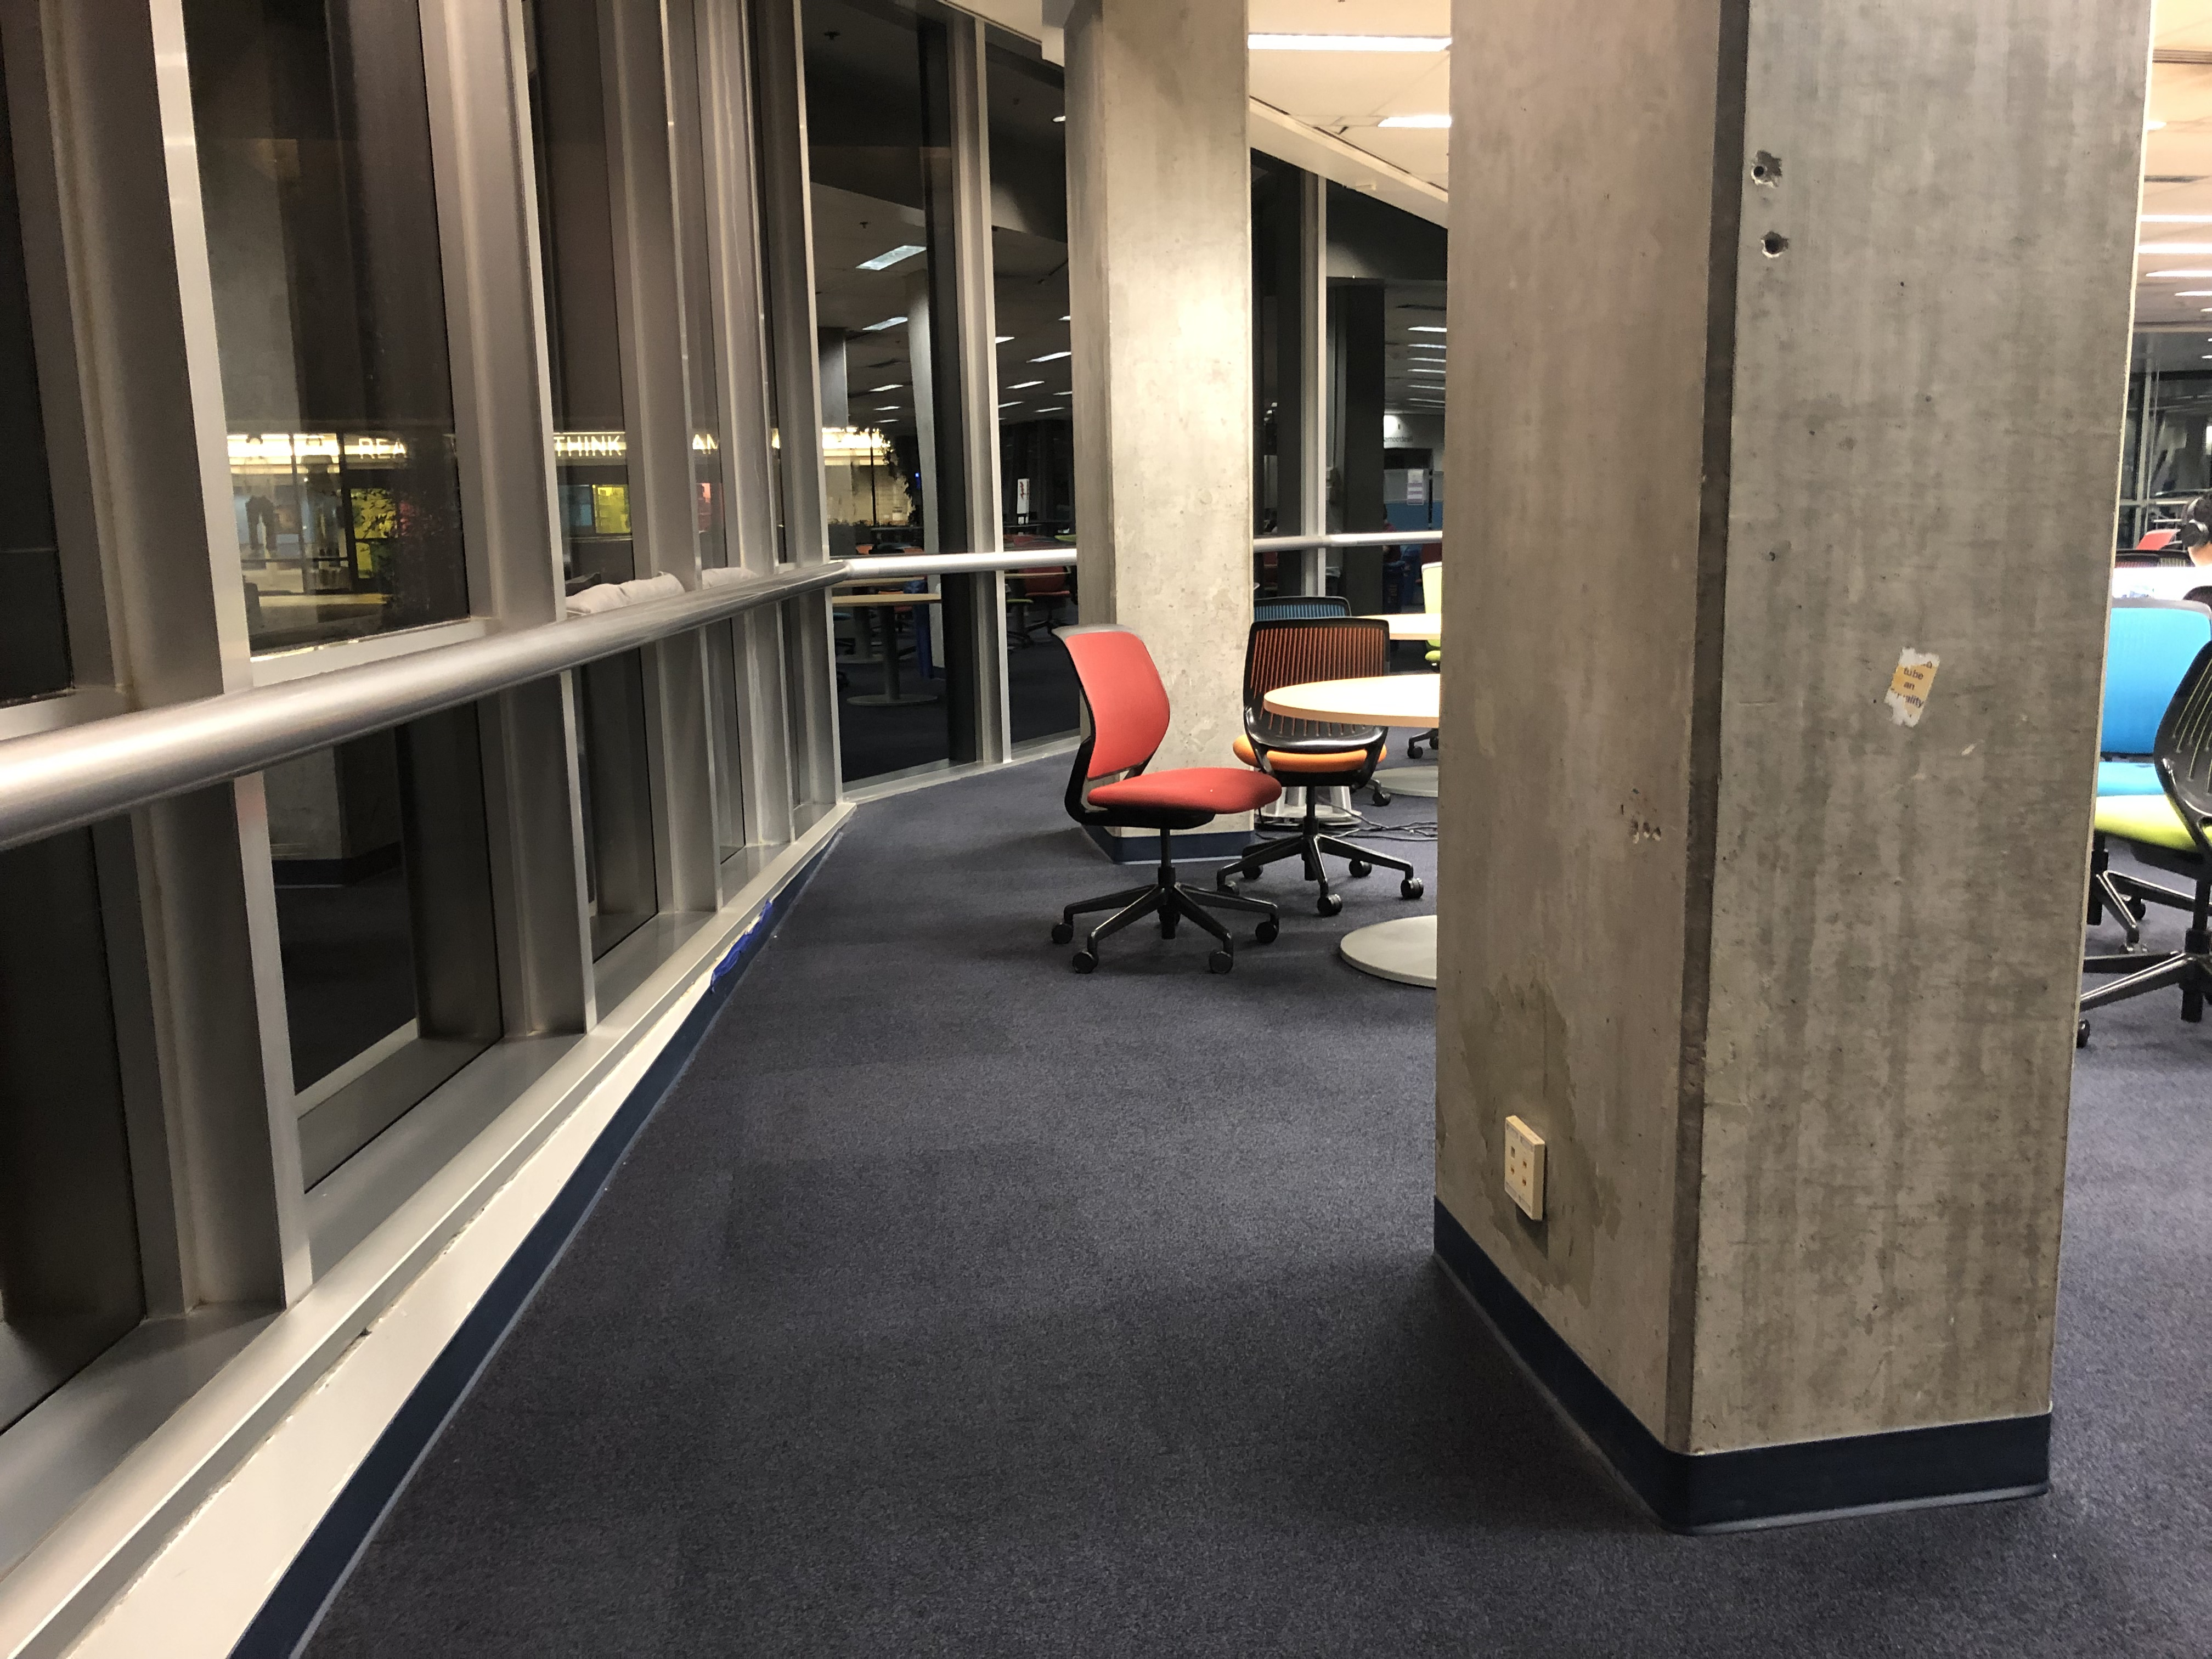Obstacle: (2, 5, 846, 1654), (1453, 2, 2113, 1514), (1049, 626, 1264, 972), (1263, 624, 1460, 985)
